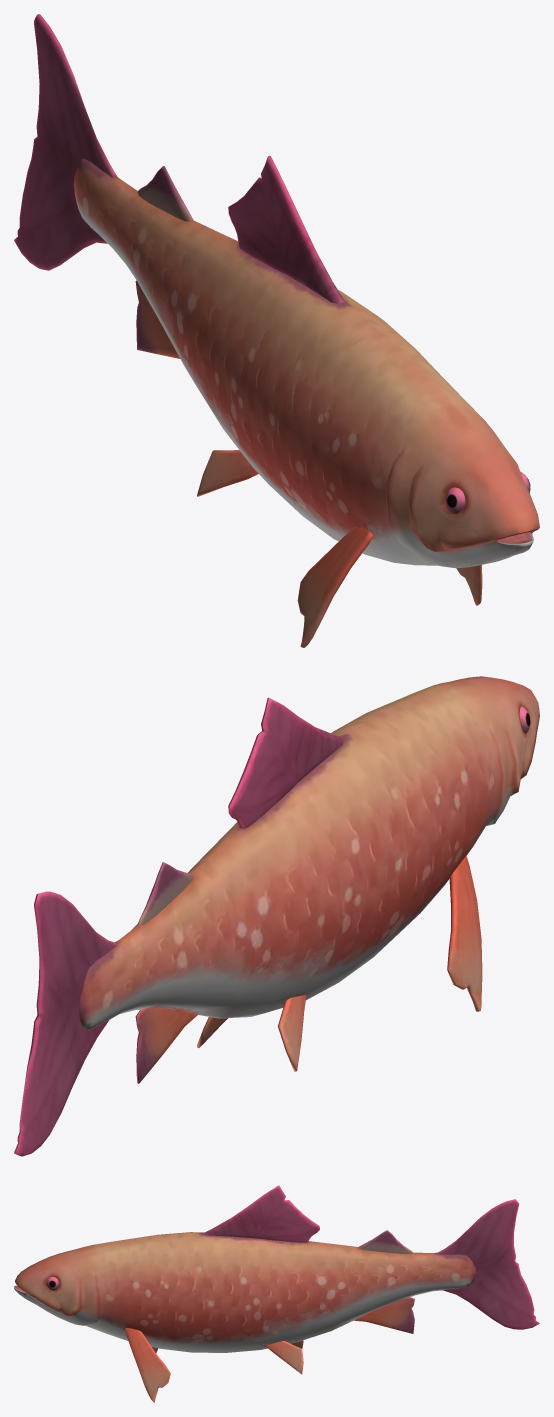
3 views of the same model, one above another, from view 1: azimuth 30°, elevation 25°; view 2: azimuth 150°, elevation 25°; view 3: azimuth 270°, elevation 25° (orthographic). The views are drawn at different scales.
Parts seen in each view (by area): view 1: SM_Fish_Salmon_01_LOD0; view 2: SM_Fish_Salmon_01_LOD0; view 3: SM_Fish_Salmon_01_LOD0.
Boxes of the visible parts, box(x1,y1,x2,y2) form: SM_Fish_Salmon_01_LOD0: box(14, 14, 539, 647); SM_Fish_Salmon_01_LOD0: box(14, 676, 539, 1156); SM_Fish_Salmon_01_LOD0: box(14, 1185, 539, 1402).
Bounding box in the file's own units: 0.2406 × 0.4879 × 1.19.
1 material, 1 textured.
